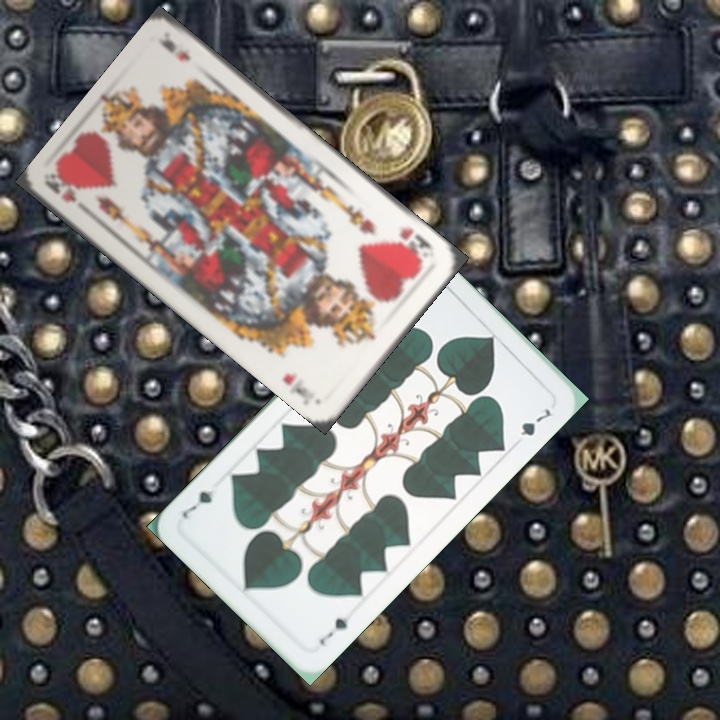G7: (315, 613, 351, 648)
HK: (43, 172, 94, 220), (395, 223, 437, 264)
